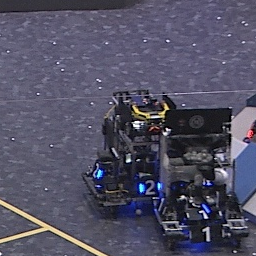Blue: (139, 179, 162, 196), (92, 161, 103, 183)
Dead: (188, 224, 227, 243), (184, 209, 222, 220)
Robot: (154, 108, 248, 251), (81, 89, 187, 212)
